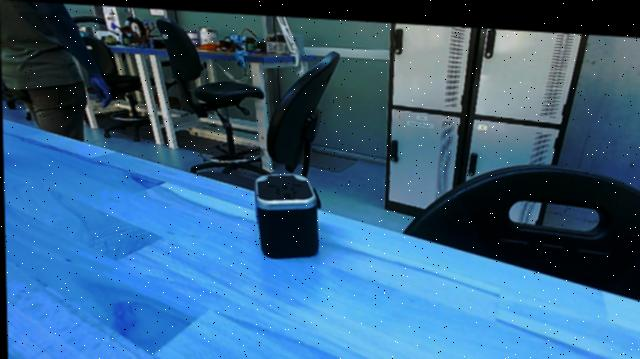adapter: (249, 163, 326, 261)
